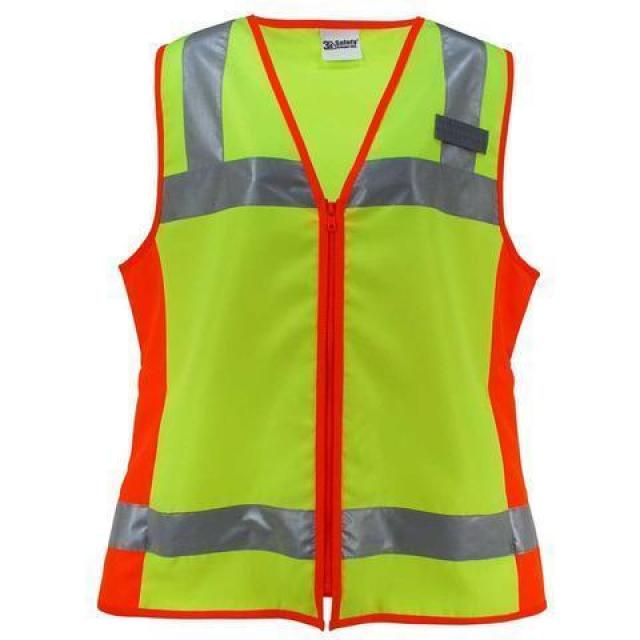Vest: (101, 15, 547, 624)
